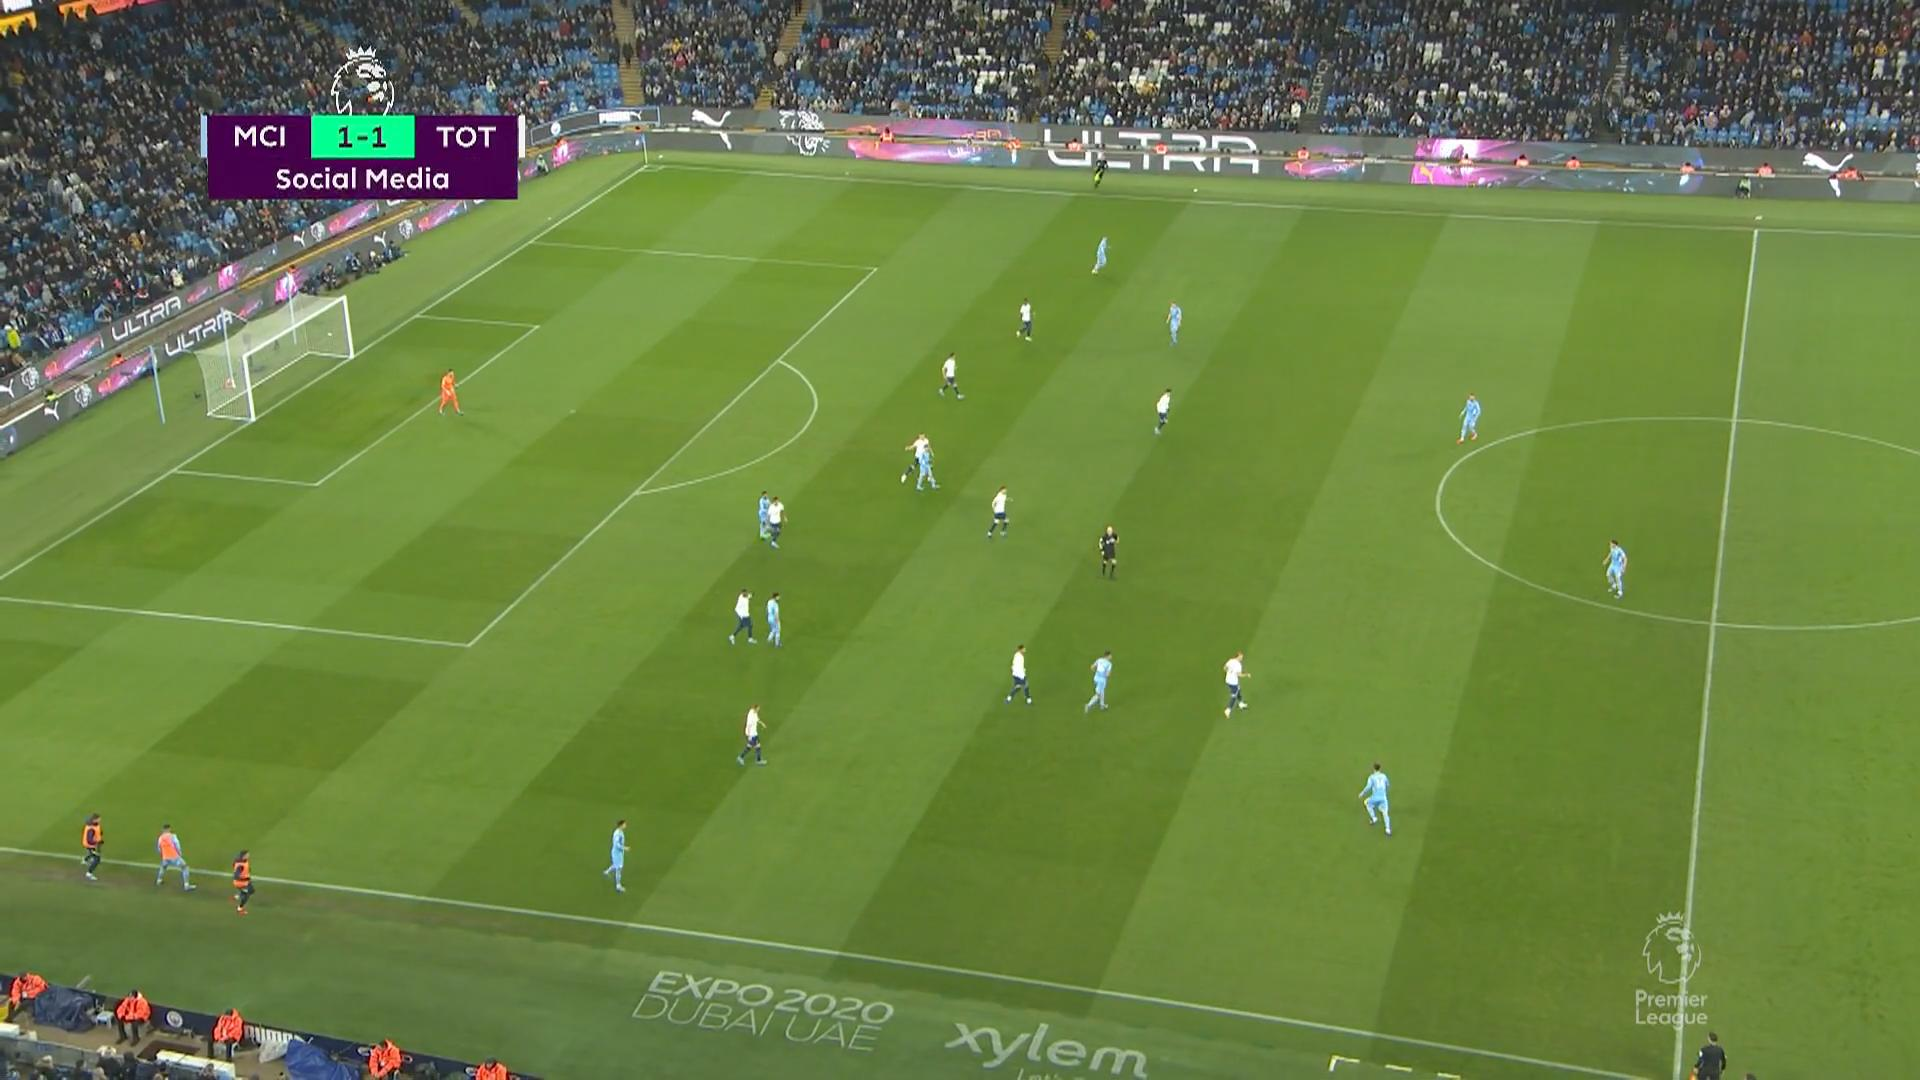goalkeeper: (437, 368, 464, 416)
player: (1357, 762, 1392, 836), (900, 433, 940, 491), (735, 703, 767, 767), (1221, 651, 1251, 718), (603, 818, 630, 892), (1083, 649, 1113, 713), (1004, 643, 1033, 705), (727, 587, 757, 645), (1601, 538, 1627, 598), (985, 485, 1010, 539), (937, 352, 964, 400), (1456, 392, 1480, 443), (916, 443, 940, 491), (765, 496, 787, 548), (764, 590, 782, 647), (1152, 386, 1172, 435), (1014, 297, 1033, 341), (1164, 301, 1182, 345), (1090, 234, 1109, 275), (757, 490, 772, 540)
referee: (1097, 524, 1119, 579)
staff: (154, 822, 195, 891), (79, 812, 104, 880), (230, 849, 254, 915)
